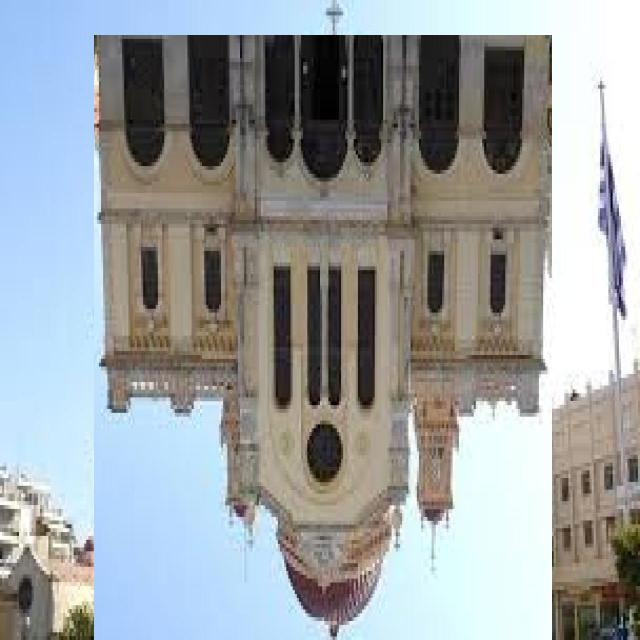Agios Minas: (95, 36, 553, 640)
